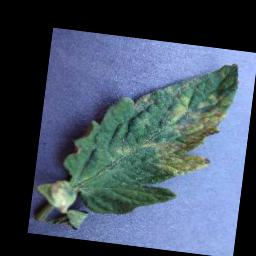Leaf_Mold: (125, 69, 235, 180), (110, 142, 130, 156)
